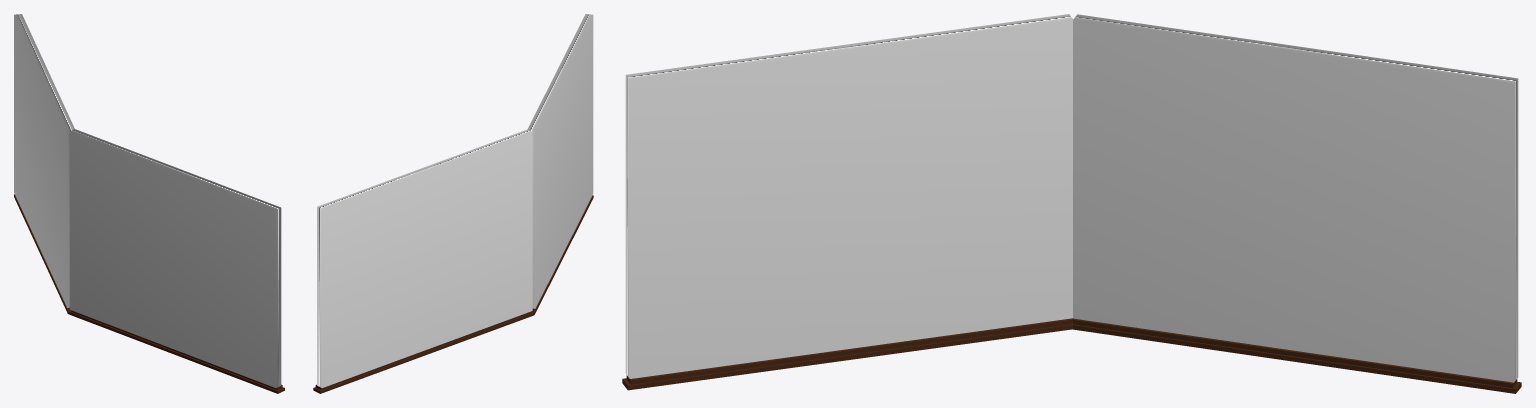
File: gallery Wall.fbx
3 views of the same model, side by side, from view 1: azimuth 30°, elevation 25°; view 2: azimuth 150°, elevation 25°; view 3: azimuth 270°, elevation 25° (orthographic). The views are drawn at different scales.
Parts seen in each view (by area): view 1: Cube.009, Cube.011; view 2: Cube.011, Cube.009; view 3: Cube.009, Cube.011.
Part boxes in pixels (x1=…): Cube.009: x1=68, y1=129, x2=284, y2=393; Cube.011: x1=14, y1=14, x2=74, y2=313; Cube.011: x1=313, y1=129, x2=534, y2=393; Cube.009: x1=527, y1=14, x2=593, y2=314; Cube.009: x1=622, y1=14, x2=1075, y2=390; Cube.011: x1=1072, y1=14, x2=1521, y2=393.
Bounding box in the file's own units: 434 × 861 × 2278.
